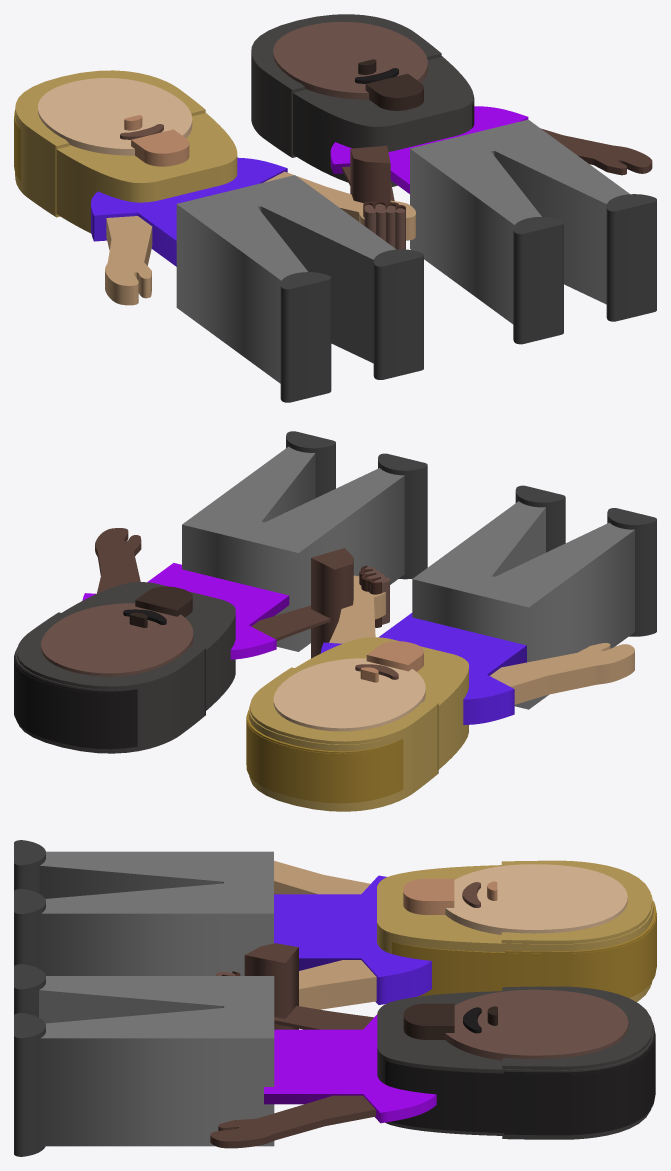
Rendered from emoji_u1f469_1f3fc_200d_1f91d_200d_1f469_1f3ff.glb.
3 views of the same model, one above another, from view 1: azimuth 30°, elevation 25°; view 2: azimuth 150°, elevation 25°; view 3: azimuth 270°, elevation 25° (orthographic). The views are drawn at different scales.
Visible parts, largest first — view 1: emoji_u1f469_1f3fc_200d_1f91d_200d_1f469_1f3ff; view 2: emoji_u1f469_1f3fc_200d_1f91d_200d_1f469_1f3ff; view 3: emoji_u1f469_1f3fc_200d_1f91d_200d_1f469_1f3ff.
Boxes of the visible parts, bbox=[...] form: emoji_u1f469_1f3fc_200d_1f91d_200d_1f469_1f3ff: bbox=[14, 14, 656, 402]; emoji_u1f469_1f3fc_200d_1f91d_200d_1f469_1f3ff: bbox=[14, 431, 656, 811]; emoji_u1f469_1f3fc_200d_1f91d_200d_1f469_1f3ff: bbox=[14, 840, 656, 1156].
Size of the model in its own units: 0.0346 by 0.007 by 0.0334.
